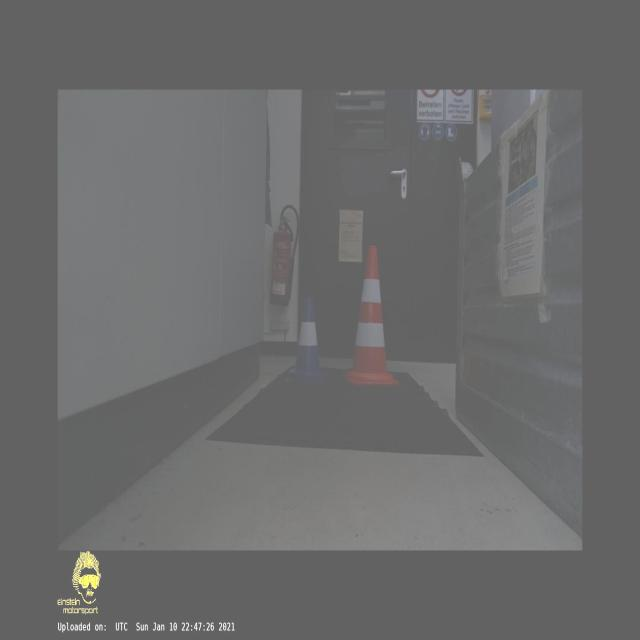blue_cone: (286, 296, 330, 386)
large_orange_cone: (342, 246, 400, 386)
